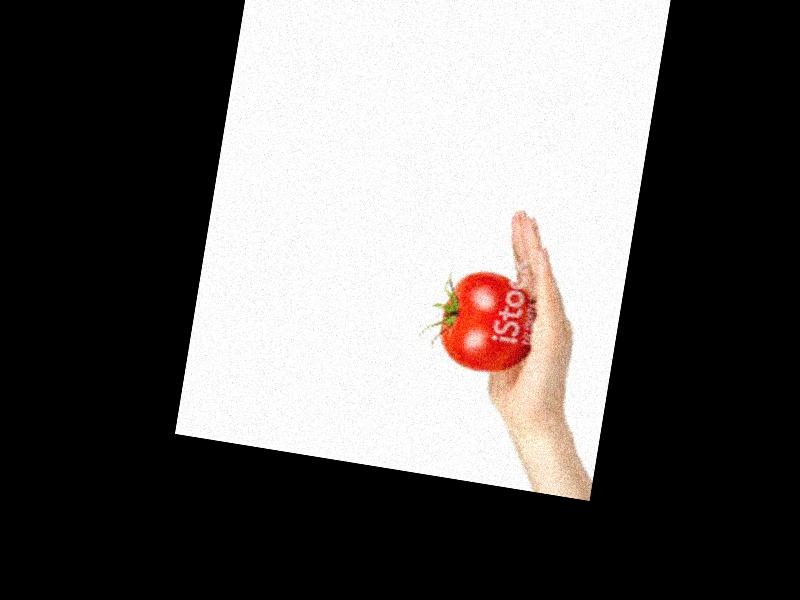Tomato: (433, 267, 539, 378)
